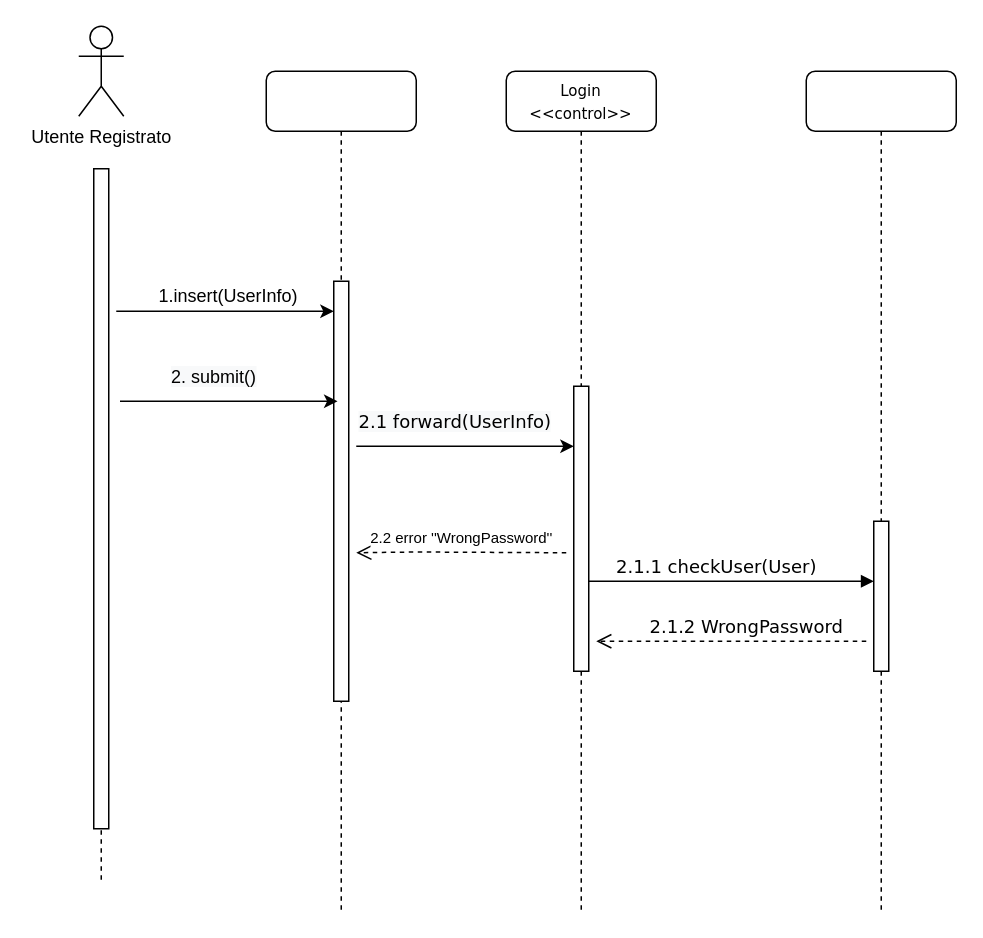
This 983x938 diagram has some shape labels left out. The box of each missing label's shape, as (x1, y1, x2, y2) in pixels:
LoginForm <<boundary>>: (265, 70, 416, 911)
UtenteService <<Manager>>: (805, 70, 956, 911)
